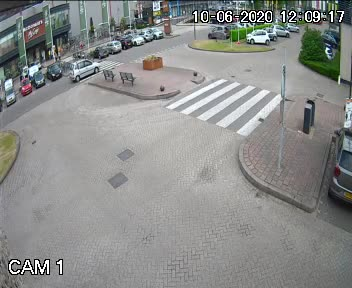car: (66, 55, 103, 83)
